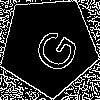G: (24, 21, 81, 78)
